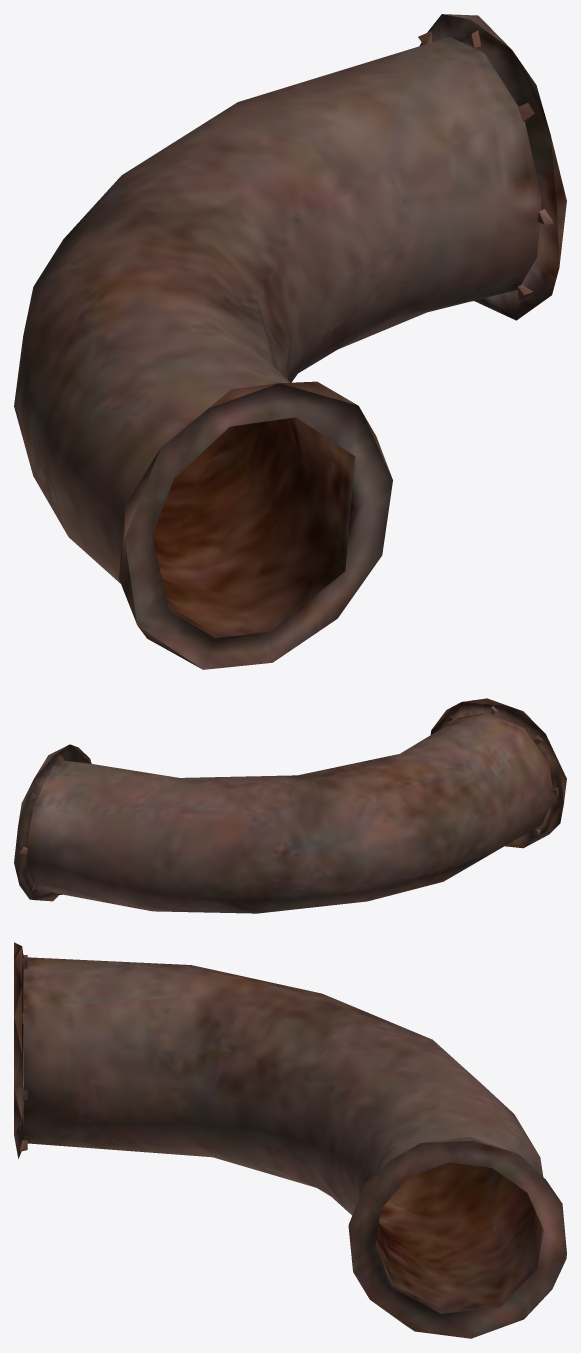
Rendered from rusty_pipe_16.glb.
3 views of the same model, one above another, from view 1: azimuth 30°, elevation 25°; view 2: azimuth 150°, elevation 25°; view 3: azimuth 270°, elevation 25° (orthographic). The views are drawn at different scales.
Visible parts, largest first — view 1: rusty_pipe_16; view 2: rusty_pipe_16; view 3: rusty_pipe_16.
Part boxes in pixels (left/top/right/bottom): rusty_pipe_16: left=14, top=14, right=566, bottom=669; rusty_pipe_16: left=14, top=698, right=566, bottom=913; rusty_pipe_16: left=14, top=942, right=566, bottom=1338.
Size of what is drawn, in the model's own units: 0.0725 by 0.0287 by 0.0726.
1 material, 1 textured.
